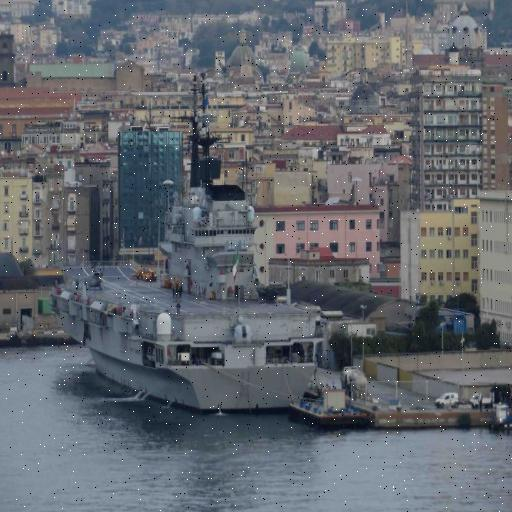Portanaves: (51, 61, 326, 418)
